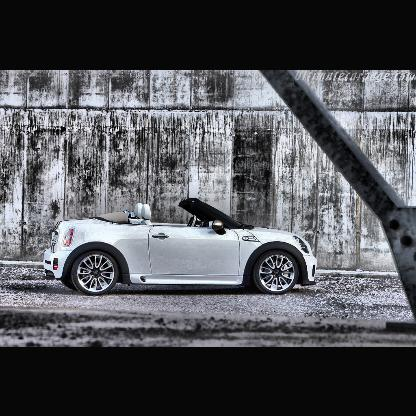MINI Cooper Roadster Convertible 2012: (43, 198, 317, 297)
